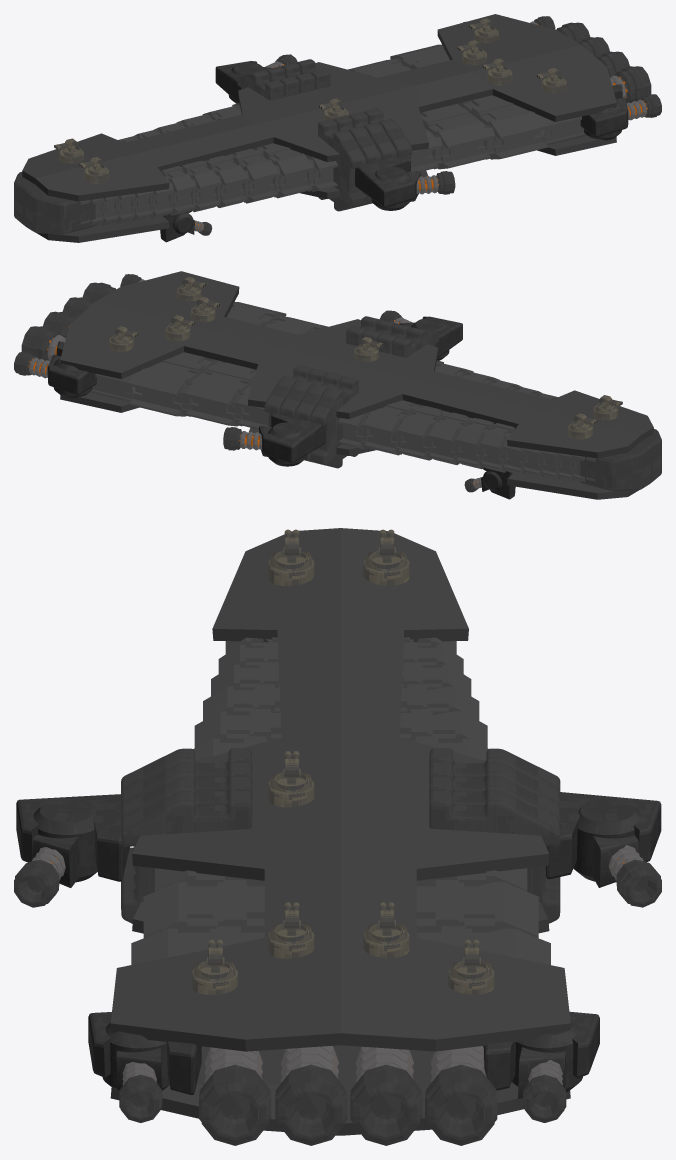
The model's file is colony-tactical-detail.glb.
The picture shows the model from 3 angles, top to bottom: view 1: azimuth 30°, elevation 25°; view 2: azimuth 150°, elevation 25°; view 3: azimuth 270°, elevation 25°; orthographic projection. The views are drawn at different scales.
Parts seen in each view (by area): view 1: colony-tactical; view 2: colony-tactical; view 3: colony-tactical.
Boxes of the visible parts, left/top/right/bottom form: colony-tactical: left=14, top=14, right=661, bottom=242; colony-tactical: left=14, top=271, right=661, bottom=499; colony-tactical: left=14, top=528, right=661, bottom=1145.
Size of the model in its own units: 85 by 13.07 by 42.5.
6 materials, 6 textured.
